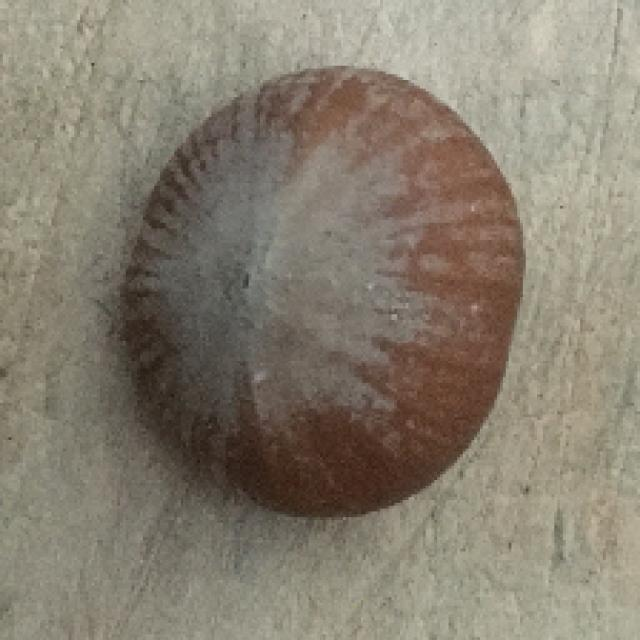qualityHazelnut: (121, 62, 524, 551)
